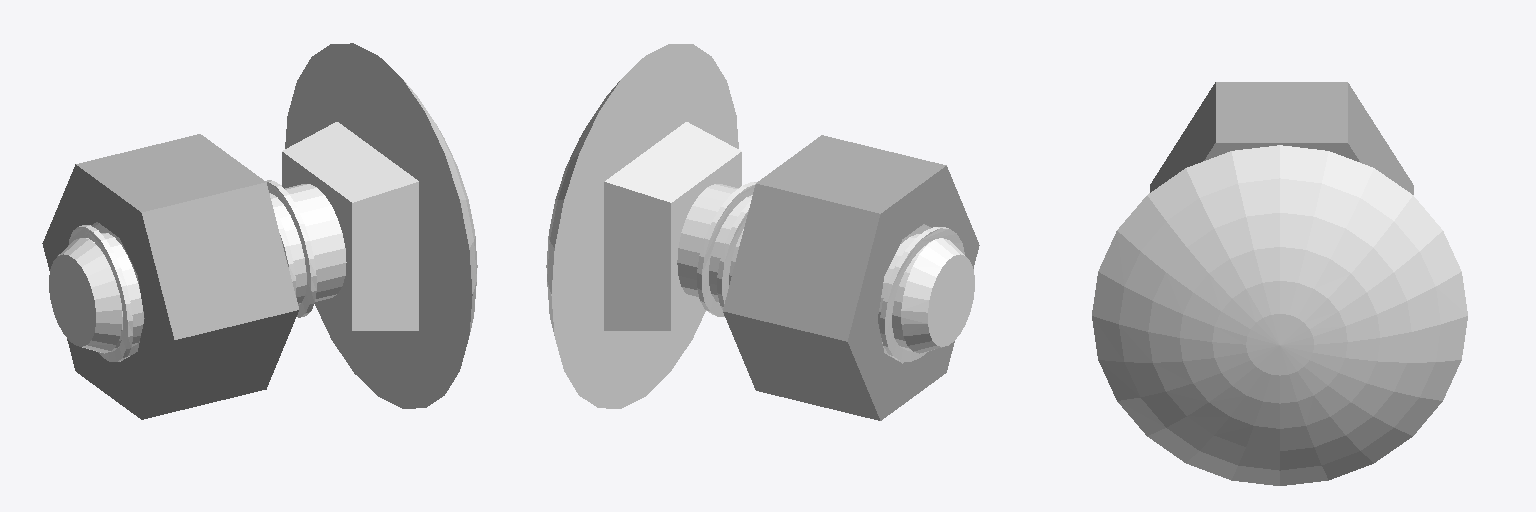
Rendered from bolt_carriage.obj.
The picture shows the model from 3 angles: view 1: azimuth 30°, elevation 25°; view 2: azimuth 150°, elevation 25°; view 3: azimuth 270°, elevation 25°; orthographic projection.
Parts seen in each view (by area): view 1: Mesh13 Carriage_Bolt1 Carriage_Bolt_with_Nut1 Carriage_Bolt_and_, Mesh1 Hex_Nut1 Carriage_Bolt_with_Nut1 Carriage_Bolt_and_Nut1 Ca, Mesh2 Component_6_1 Carriage_Bolt1 Carriage_Bolt_with_Nut1 Carri, Mesh3 Component_7_1 Carriage_Bolt1 Carriage_Bolt_with_Nut1 Carri, Mesh12 Component_7_10 Carriage_Bolt1 Carriage_Bolt_with_Nut1 Car; view 2: Mesh13 Carriage_Bolt1 Carriage_Bolt_with_Nut1 Carriage_Bolt_and_, Mesh1 Hex_Nut1 Carriage_Bolt_with_Nut1 Carriage_Bolt_and_Nut1 Ca, Mesh2 Component_6_1 Carriage_Bolt1 Carriage_Bolt_with_Nut1 Carri, Mesh3 Component_7_1 Carriage_Bolt1 Carriage_Bolt_with_Nut1 Carri, Mesh12 Component_7_10 Carriage_Bolt1 Carriage_Bolt_with_Nut1 Car, Mesh11 Component_7_9 Carriage_Bolt1 Carriage_Bolt_with_Nut1 Carr; view 3: Mesh13 Carriage_Bolt1 Carriage_Bolt_with_Nut1 Carriage_Bolt_and_, Mesh1 Hex_Nut1 Carriage_Bolt_with_Nut1 Carriage_Bolt_and_Nut1 Ca.
Boxes of the visible parts, <box> form: Mesh13 Carriage_Bolt1 Carriage_Bolt_with_Nut1 Carriage_Bolt_and_: <box>85,43,477,408</box>; Mesh1 Hex_Nut1 Carriage_Bolt_with_Nut1 Carriage_Bolt_and_Nut1 Ca: <box>42,134,298,419</box>; Mesh2 Component_6_1 Carriage_Bolt1 Carriage_Bolt_with_Nut1 Carri: <box>49,238,121,353</box>; Mesh3 Component_7_1 Carriage_Bolt1 Carriage_Bolt_with_Nut1 Carri: <box>68,225,132,361</box>; Mesh12 Component_7_10 Carriage_Bolt1 Carriage_Bolt_with_Nut1 Car: <box>266,180,316,317</box>; Mesh13 Carriage_Bolt1 Carriage_Bolt_with_Nut1 Carriage_Bolt_and_: <box>546,44,931,408</box>; Mesh1 Hex_Nut1 Carriage_Bolt_with_Nut1 Carriage_Bolt_and_Nut1 Ca: <box>723,135,979,420</box>; Mesh2 Component_6_1 Carriage_Bolt1 Carriage_Bolt_with_Nut1 Carri: <box>901,238,974,353</box>; Mesh3 Component_7_1 Carriage_Bolt1 Carriage_Bolt_with_Nut1 Carri: <box>880,227,964,361</box>; Mesh12 Component_7_10 Carriage_Bolt1 Carriage_Bolt_with_Nut1 Car: <box>697,182,756,316</box>; Mesh11 Component_7_9 Carriage_Bolt1 Carriage_Bolt_with_Nut1 Carr: <box>717,201,750,309</box>; Mesh13 Carriage_Bolt1 Carriage_Bolt_with_Nut1 Carriage_Bolt_and_: <box>1092,145,1467,485</box>; Mesh1 Hex_Nut1 Carriage_Bolt_with_Nut1 Carriage_Bolt_and_Nut1 Ca: <box>1150,82,1413,194</box>.
Size of the model in its own units: 1.12 by 1 by 1.